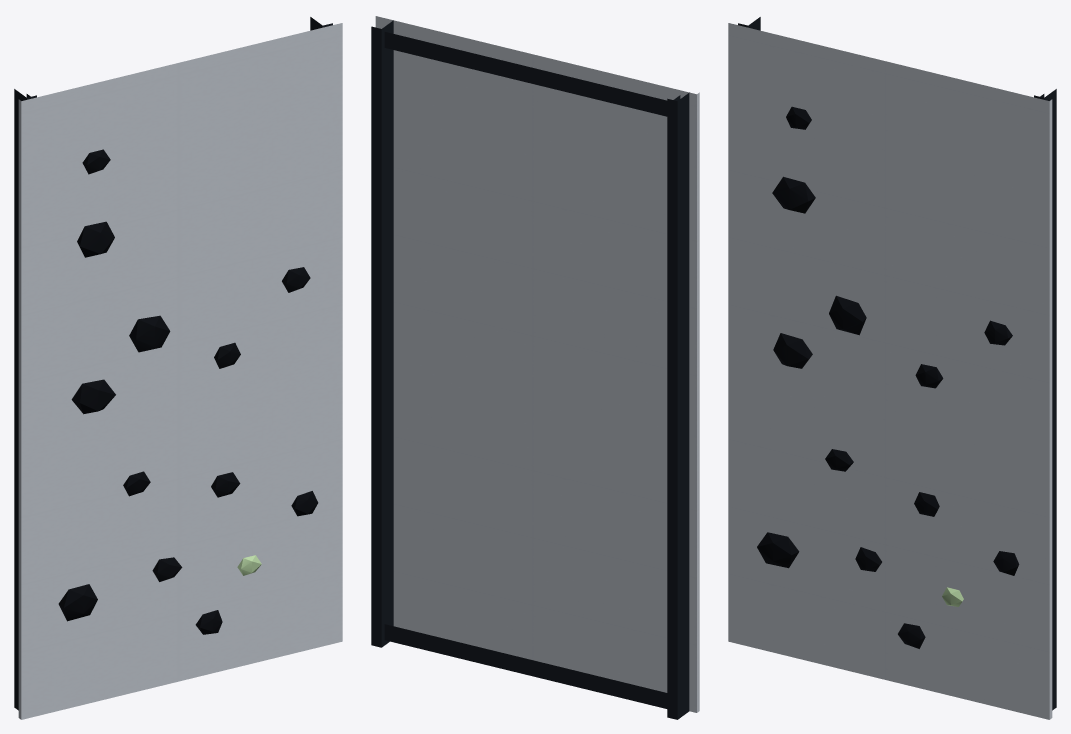
The picture shows the model from 3 angles, left to right: view 1: azimuth 30°, elevation 25°; view 2: azimuth 150°, elevation 25°; view 3: azimuth 330°, elevation 25°; orthographic projection.
Visible parts, largest first — view 1: Face_Sheet, Holds, Sub_Frame; view 2: Face_Sheet, Sub_Frame; view 3: Face_Sheet, Holds, Sub_Frame.
Boxes of the visible parts, x1=… form: Face_Sheet: x1=18, y1=23, x2=342, y2=719; Holds: x1=58, y1=149, x2=318, y2=634; Sub_Frame: x1=14, y1=17, x2=332, y2=710; Face_Sheet: x1=375, y1=16, x2=699, y2=712; Sub_Frame: x1=371, y1=20, x2=689, y2=719; Face_Sheet: x1=728, y1=23, x2=1052, y2=719; Holds: x1=757, y1=106, x2=1019, y2=648; Sub_Frame: x1=738, y1=17, x2=1056, y2=710.
Size of what is drawn, in the model's own units: 1.25 by 2.3 by 0.1619.
4 materials, 3 textured.
